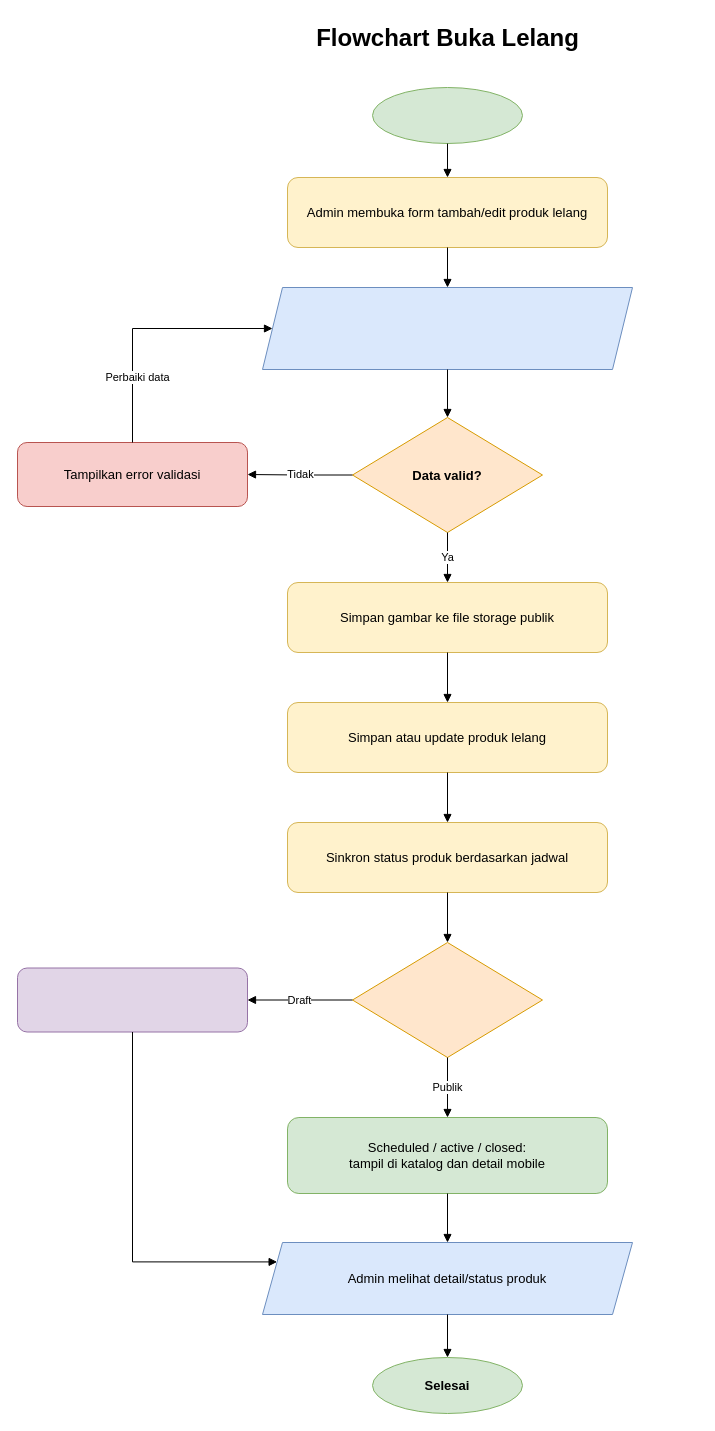
This 715x1431 diagram has some shape labels left out. The centre of each missing label's shape, as x and y in pixels:
"Draft: hanya tampil di admin" belongs at pixel 132 999.
"Input data produk, harga awal, kelipatan bid, jadwal, status, dan gambar" belongs at pixel 447 328.
"Mulai" belongs at pixel 447 115.
"Status produk?" belongs at pixel 447 1000.
